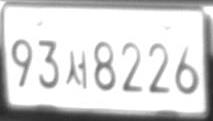2: (120, 41, 142, 92), (148, 42, 170, 93)
3: (38, 39, 60, 89)
6: (175, 45, 198, 94)
8: (92, 40, 116, 90)
9: (11, 38, 33, 87)
서: (65, 50, 86, 89)
